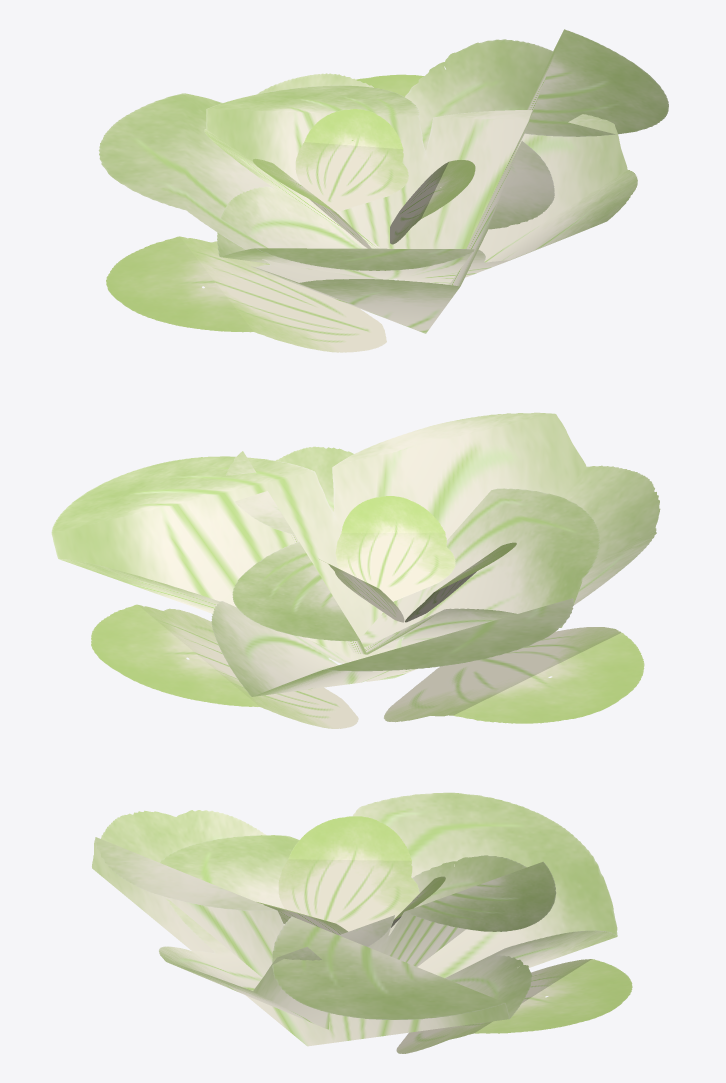
The model's file is green_hydrangea.fbx.
3 views of the same model, one above another, from view 1: azimuth 30°, elevation 25°; view 2: azimuth 150°, elevation 25°; view 3: azimuth 270°, elevation 25° (orthographic). The views are drawn at different scales.
Parts seen in each view (by area): view 1: green_hydrangea; view 2: green_hydrangea; view 3: green_hydrangea.
Part boxes in pixels (<box>): green_hydrangea: <box>98,29,668,352</box>; green_hydrangea: <box>51,412,660,728</box>; green_hydrangea: <box>92,792,632,1053</box>.
Bounding box in the file's own units: 0.5764 × 0.1935 × 0.6359.
Materials: 1 (1 with a texture image).
